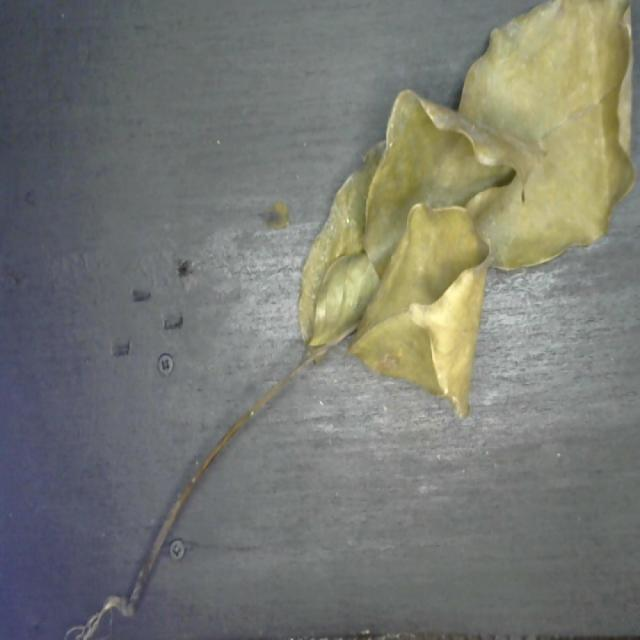biodegradable: (292, 0, 640, 404)
